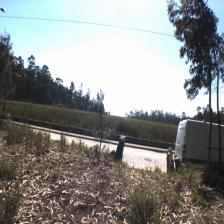trunktrack_idkeyframe: (207, 127, 212, 161), (218, 128, 222, 163)
